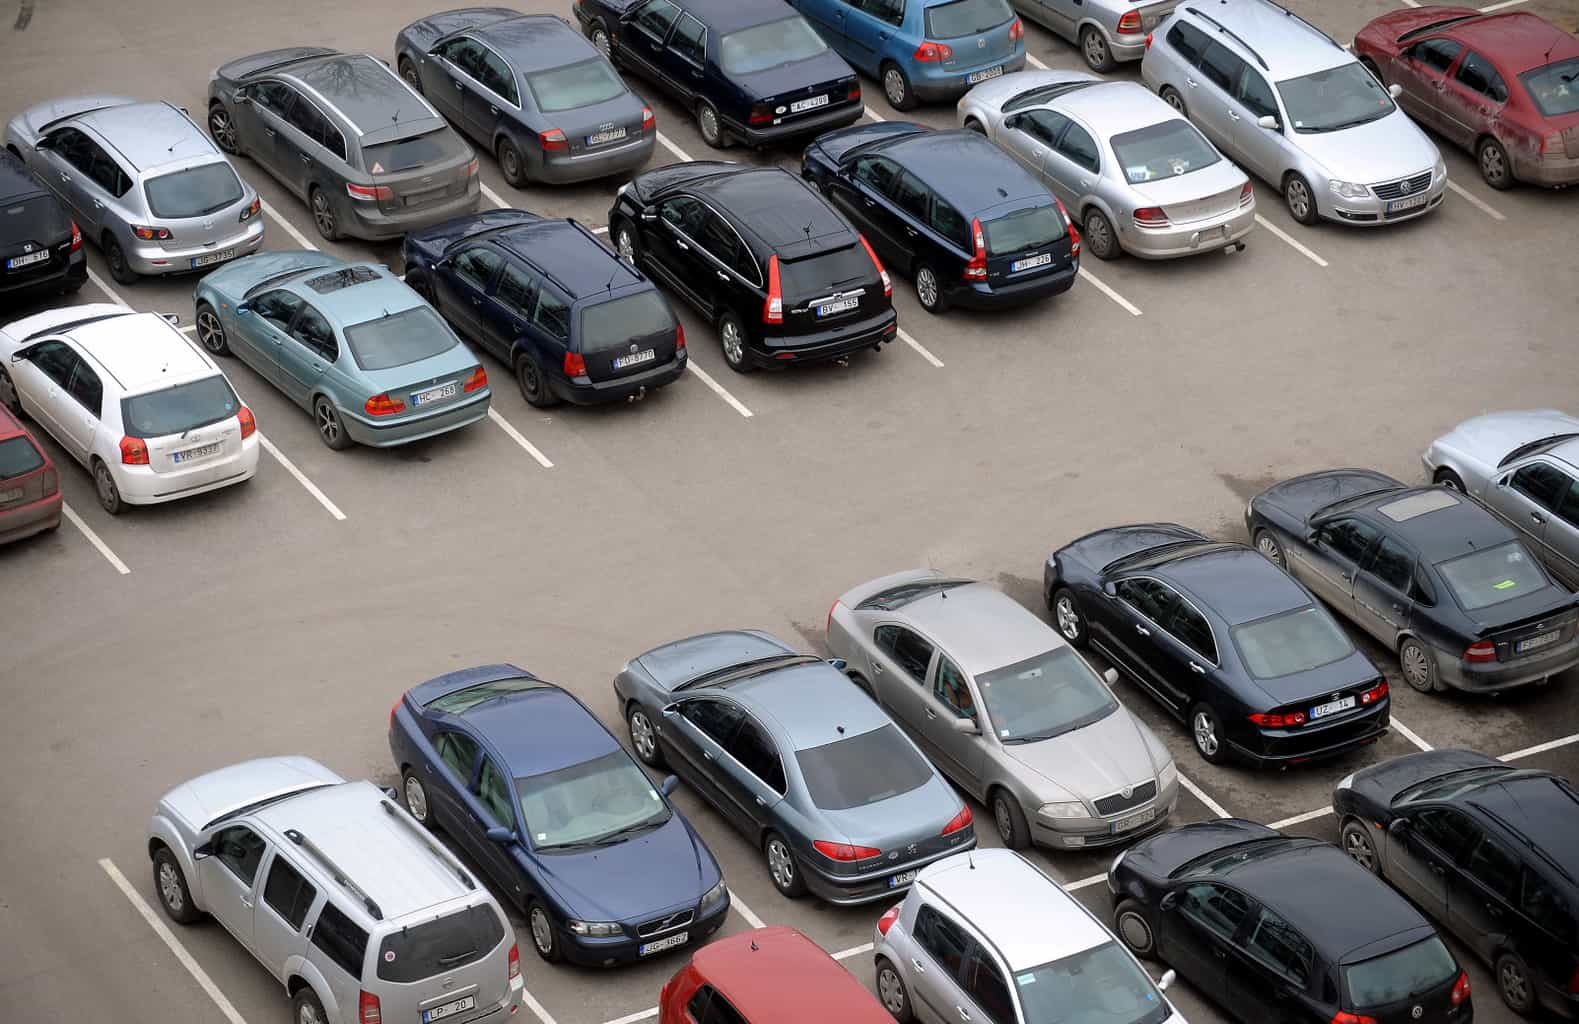Car: (389, 663, 730, 966), (823, 568, 1178, 851), (148, 756, 524, 1024), (615, 628, 977, 905), (1043, 520, 1393, 772), (1243, 467, 1579, 697), (1108, 819, 1474, 1024), (1141, 0, 1449, 226), (1332, 748, 1579, 1024), (605, 160, 899, 373), (191, 249, 493, 450), (956, 67, 1257, 261), (399, 208, 689, 408), (874, 847, 1188, 1024), (0, 304, 261, 515), (800, 120, 1083, 313), (205, 46, 482, 243), (3, 94, 266, 283), (392, 6, 656, 188), (571, 0, 864, 150), (1350, 5, 1579, 189), (1421, 408, 1579, 590), (788, 0, 1025, 110), (656, 925, 899, 1024), (0, 144, 90, 320), (1010, 0, 1181, 72), (0, 402, 64, 547)
